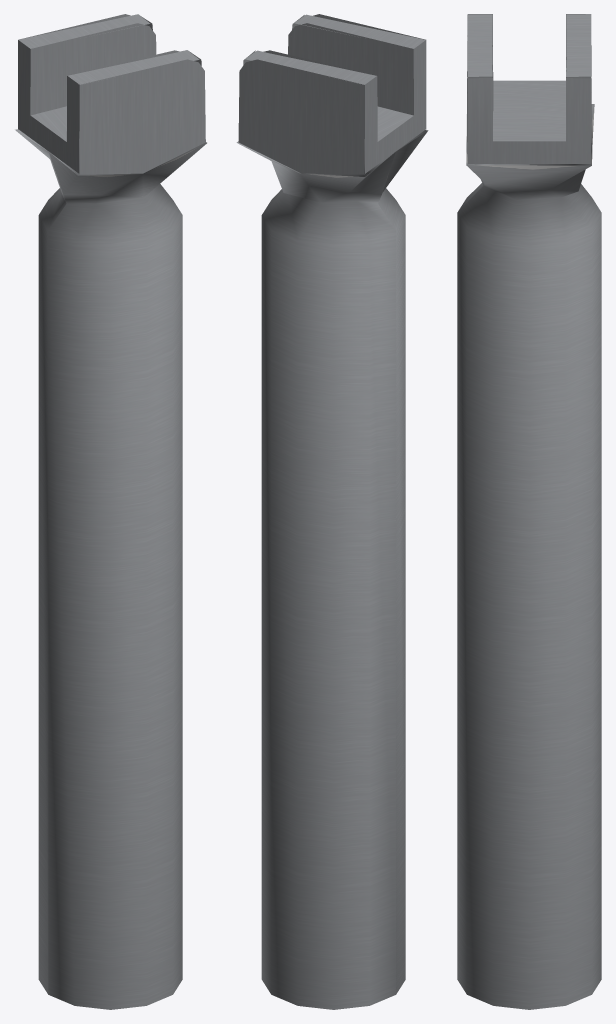
Rendered from laringoscopio metal.fbx.
3 renders of one model, left to right at view 1: azimuth 30°, elevation 25°; view 2: azimuth 150°, elevation 25°; view 3: azimuth 270°, elevation 25°, orthographic.
Visible parts, largest first — view 1: Laryngoscope_Laryngoscope_mat_0; view 2: Laryngoscope_Laryngoscope_mat_0; view 3: Laryngoscope_Laryngoscope_mat_0.
Boxes of the visible parts, x1,y1,x2,y2 form: Laryngoscope_Laryngoscope_mat_0: (15, 14, 206, 1009); Laryngoscope_Laryngoscope_mat_0: (236, 14, 428, 1009); Laryngoscope_Laryngoscope_mat_0: (457, 14, 601, 1009).
Bounding box in the file's own units: 3.11 × 21.35 × 2.99.
1 material, 1 textured.
